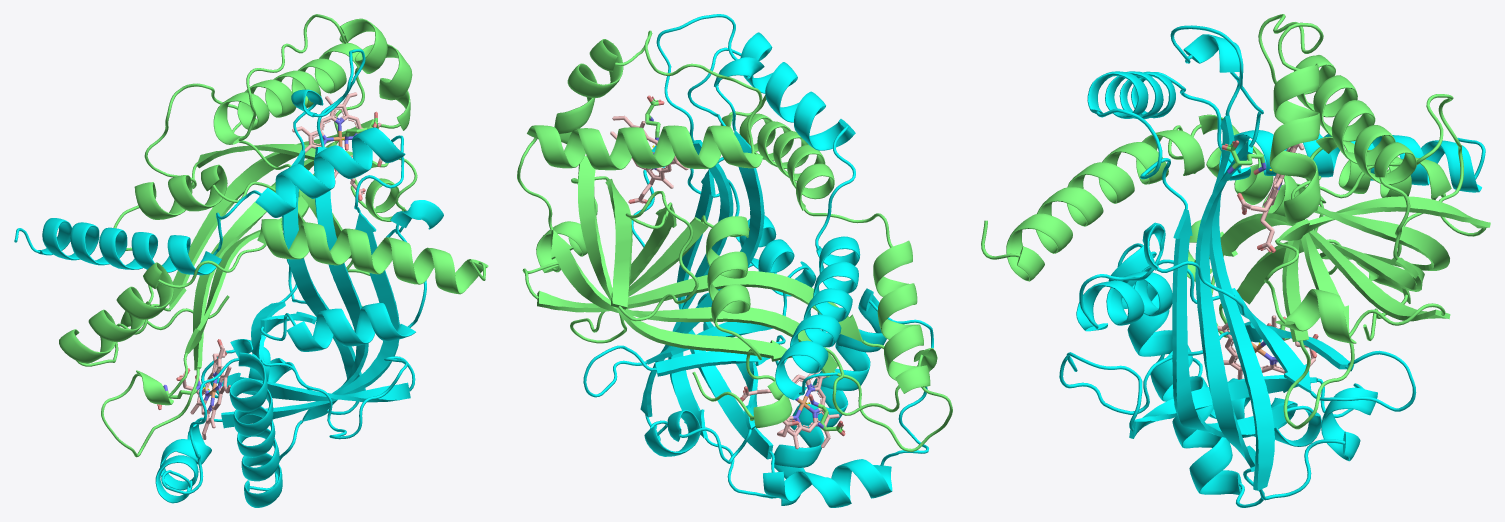
Rendered from PZS_OH_Orn.gltf.
The picture shows the model from 3 angles, left to right: view 1: azimuth 30°, elevation 25°; view 2: azimuth 150°, elevation 25°; view 3: azimuth 270°, elevation 25°; orthographic projection. The views are drawn at different scales.
Parts seen in each view (by area): view 1: node-geom298, node-geom296, node-geom297, node-geom299; view 2: node-geom298, node-geom297, node-geom296; view 3: node-geom296, node-geom298, node-geom297, node-geom299.
Boxes of the visible parts, box(x1,y1,x2,y2) form: node-geom298: box(59, 14, 487, 457); node-geom296: box(155, 49, 443, 507); node-geom297: box(14, 83, 417, 495); node-geom299: box(404, 250, 488, 293); node-geom298: box(517, 30, 952, 451); node-geom297: box(522, 32, 891, 507); node-geom296: box(583, 14, 933, 506); node-geom296: box(1059, 25, 1416, 507); node-geom298: box(1006, 14, 1450, 337); node-geom297: box(1087, 71, 1490, 446); node-geom299: box(981, 219, 1066, 277).
Bounding box in the file's own units: 52.3 × 62.93 × 54.55.
